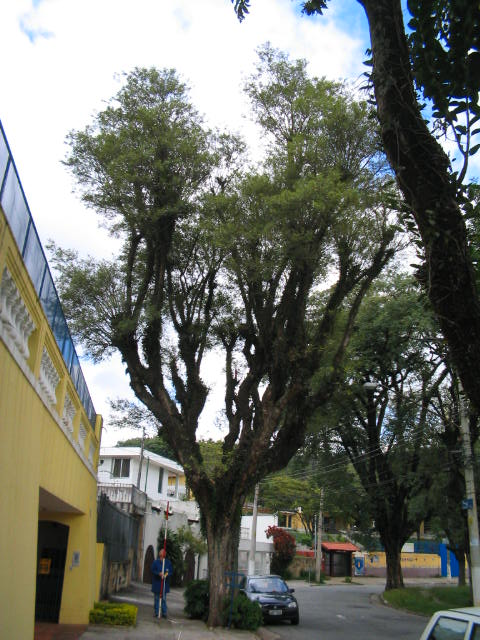crown: (51, 45, 404, 447)
stem: (187, 494, 264, 626), (373, 541, 417, 587)
stick: (152, 500, 177, 618)
tree: (49, 43, 408, 628), (317, 345, 466, 589)
